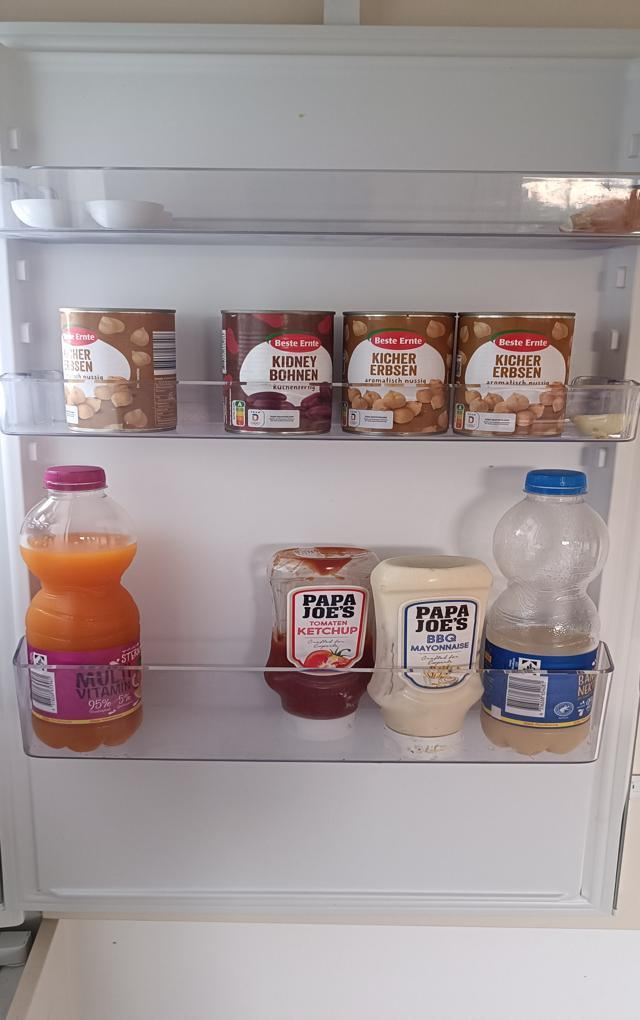bananajuice: (487, 467, 607, 760)
chickpeas: (456, 312, 573, 441), (60, 307, 179, 431), (347, 310, 453, 436)
kidneybeans: (219, 310, 335, 439)
mayoniasie: (370, 553, 485, 760)
orangejuice: (22, 468, 147, 752)
tomatoketchup: (265, 547, 381, 745)
